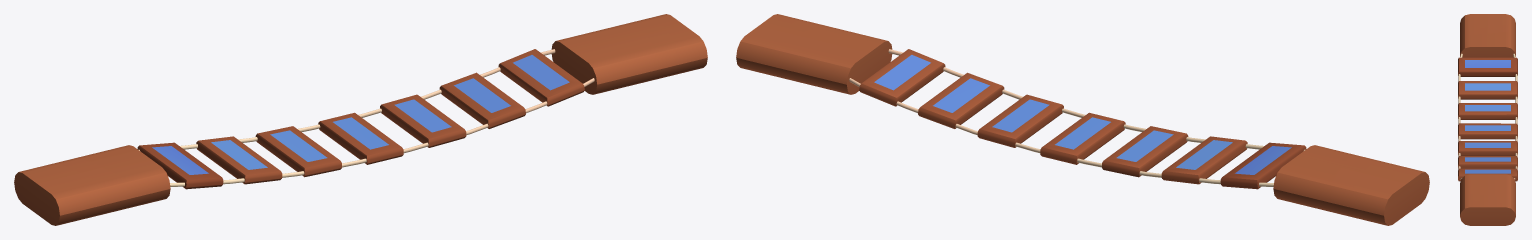
The model's file is CatWalkWay.fbx.
3 views of the same model, side by side, from view 1: azimuth 30°, elevation 25°; view 2: azimuth 150°, elevation 25°; view 3: azimuth 270°, elevation 25° (orthographic). The views are drawn at different scales.
Visible parts, largest first — view 1: BridgePlanks, BridgePlatform, BridgeRopes; view 2: BridgePlanks, BridgePlatform, BridgeRopes; view 3: BridgePlanks, BridgePlatform, BridgeRopes.
Part boxes in pixels (x1,y1,x2,y2): BridgePlanks: [137, 49, 584, 189]; BridgePlatform: [14, 14, 707, 225]; BridgeRopes: [138, 49, 594, 186]; BridgePlanks: [859, 49, 1306, 189]; BridgePlatform: [736, 14, 1429, 225]; BridgeRopes: [849, 49, 1305, 186]; BridgePlanks: [1458, 57, 1517, 181]; BridgePlatform: [1460, 14, 1515, 225]; BridgeRopes: [1458, 53, 1517, 179].
Bounding box in the file's own units: 1631 × 94.87 × 214.
